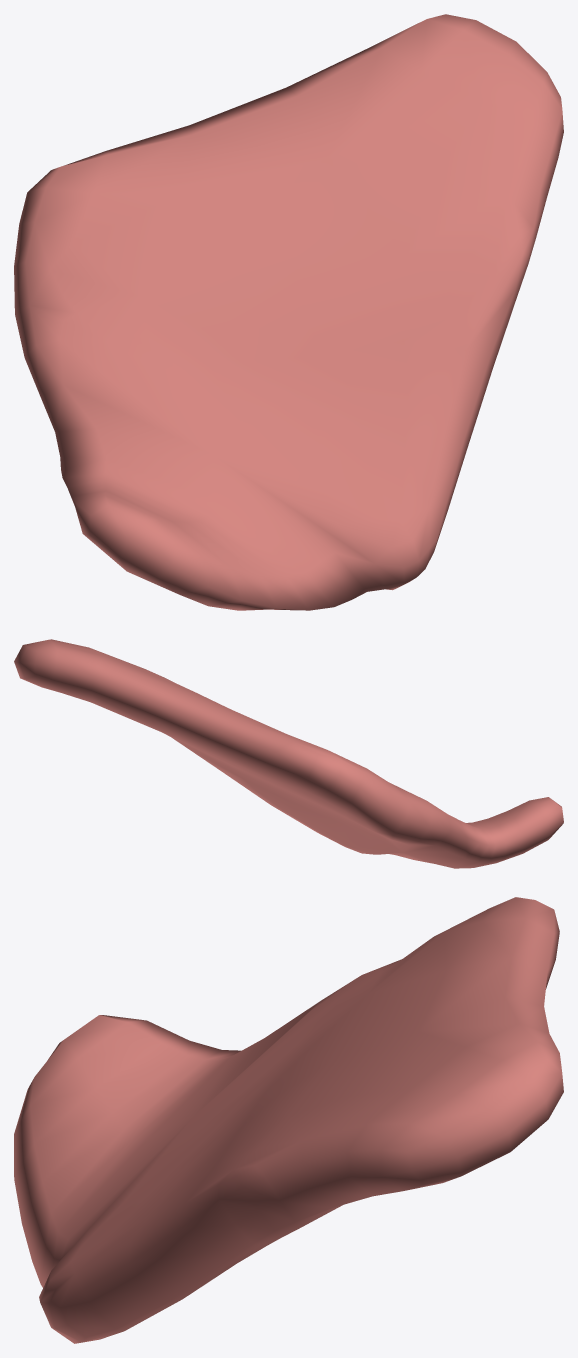
3 views of the same model, one above another, from view 1: azimuth 30°, elevation 25°; view 2: azimuth 150°, elevation 25°; view 3: azimuth 270°, elevation 25° (orthographic). The views are drawn at different scales.
Visible parts, largest first — view 1: ZA_314ace63bc0df401; view 2: ZA_314ace63bc0df401; view 3: ZA_314ace63bc0df401.
Part boxes in pixels (left/top/right/bottom): ZA_314ace63bc0df401: left=14, top=14, right=563, bottom=610; ZA_314ace63bc0df401: left=14, top=639, right=563, bottom=868; ZA_314ace63bc0df401: left=14, top=897, right=563, bottom=1343.
Size of the model in its own units: 0.00493 by 0.00286 by 0.00332.
